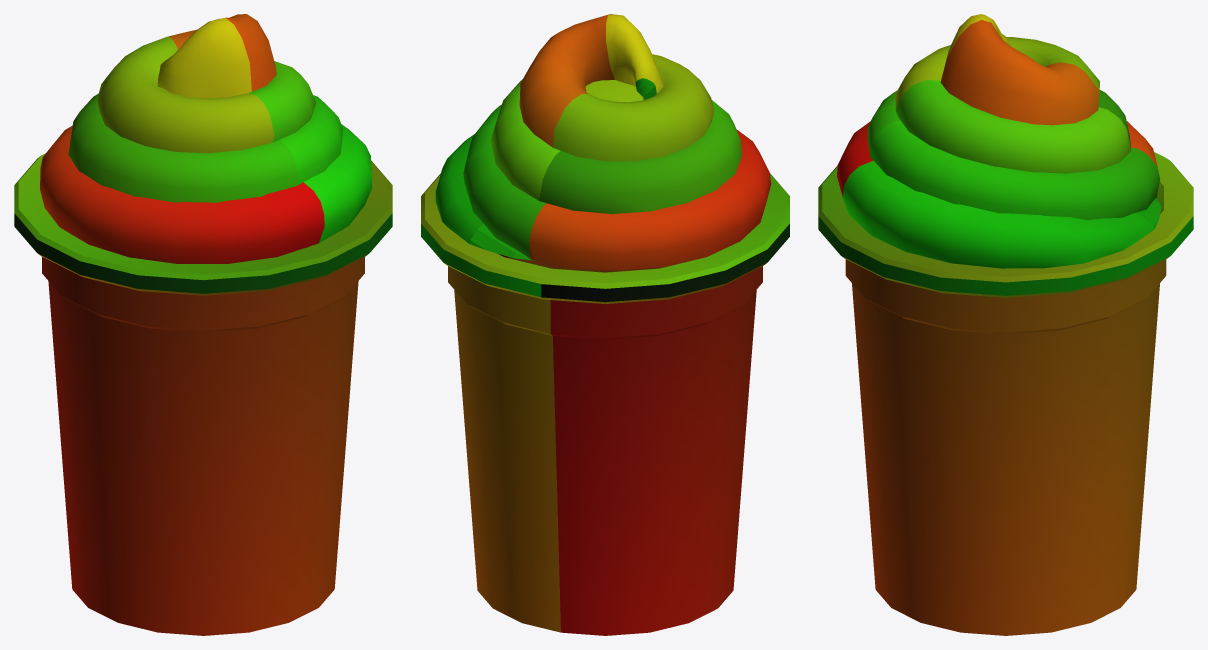
The model's file is BubbleTea.fbx.
3 views of the same model, side by side, from view 1: azimuth 30°, elevation 25°; view 2: azimuth 150°, elevation 25°; view 3: azimuth 270°, elevation 25° (orthographic). The views are drawn at different scales.
Visible parts, largest first — view 1: Cup_low, WhipCream_low; view 2: Cup_low, WhipCream_low; view 3: Cup_low, WhipCream_low.
Part boxes in pixels (x1,y1,x2,y2): Cup_low: (14, 153, 392, 635); WhipCream_low: (40, 14, 372, 263); Cup_low: (421, 173, 789, 635); WhipCream_low: (435, 14, 771, 270); Cup_low: (818, 152, 1193, 635); WhipCream_low: (837, 14, 1161, 268).
Size of the model in its own units: 18.05 by 29.52 by 17.78.
